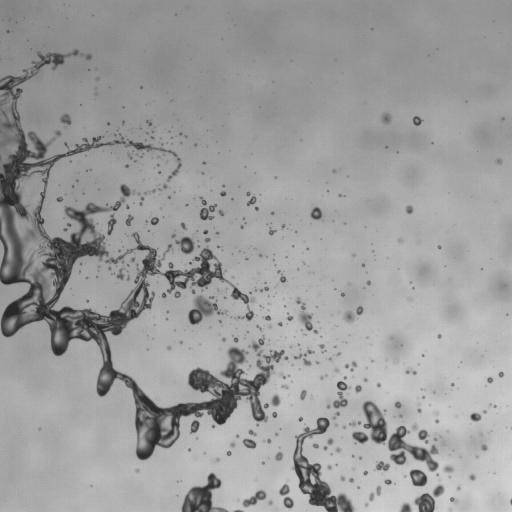droplet: (181, 473, 227, 511), (188, 295, 226, 324), (414, 483, 444, 511), (199, 196, 216, 220), (175, 236, 195, 254), (409, 469, 427, 486), (294, 349, 313, 365), (112, 267, 129, 279), (374, 461, 389, 472), (310, 207, 322, 219), (418, 429, 428, 443), (243, 438, 256, 448), (190, 419, 199, 433), (60, 114, 71, 124), (443, 464, 453, 475), (345, 361, 357, 370), (399, 502, 411, 511), (381, 113, 391, 123), (470, 412, 481, 421), (146, 217, 158, 225), (125, 215, 133, 226), (413, 116, 422, 125), (247, 196, 256, 205), (275, 452, 283, 460), (406, 205, 413, 213), (300, 390, 306, 399), (248, 429, 256, 435), (279, 373, 288, 378), (180, 222, 186, 229), (269, 228, 275, 235), (355, 385, 361, 392), (394, 401, 401, 407), (411, 423, 417, 430), (384, 479, 391, 485), (450, 497, 457, 503), (260, 286, 268, 291), (264, 315, 270, 321), (287, 314, 293, 320), (327, 438, 333, 444), (481, 444, 487, 450), (469, 474, 475, 480), (496, 159, 502, 164), (498, 371, 503, 377), (487, 377, 492, 383), (282, 384, 288, 389), (86, 54, 91, 59), (220, 191, 225, 196), (218, 210, 223, 215), (130, 257, 135, 262), (233, 337, 238, 342), (272, 412, 277, 417), (313, 443, 318, 448), (335, 447, 340, 452), (147, 120, 151, 125), (127, 153, 131, 158), (57, 197, 62, 201), (205, 238, 210, 242), (397, 238, 402, 242), (257, 325, 261, 330), (334, 368, 339, 372), (230, 442, 234, 447), (340, 476, 345, 480), (254, 206, 258, 210), (203, 230, 207, 234), (191, 289, 195, 293), (278, 322, 282, 326), (437, 334, 441, 338), (376, 383, 380, 387), (417, 408, 421, 412), (434, 411, 438, 415), (298, 417, 302, 421), (435, 419, 439, 423), (323, 446, 327, 450), (227, 451, 231, 455), (327, 465, 331, 469), (135, 468, 139, 472), (363, 471, 367, 475), (349, 478, 353, 482), (456, 486, 460, 490), (268, 500, 272, 504), (246, 192, 250, 195), (67, 223, 70, 227), (282, 224, 285, 228), (172, 234, 175, 238), (367, 280, 370, 284), (341, 292, 344, 296), (336, 352, 340, 355), (364, 378, 367, 382), (266, 439, 270, 442), (215, 458, 219, 461), (338, 194, 343, 196), (64, 143, 67, 146), (126, 205, 129, 208), (240, 225, 243, 228), (438, 245, 441, 248), (222, 338, 225, 341), (167, 346, 170, 349), (483, 410, 486, 413), (334, 423, 337, 426), (151, 136, 153, 139), (126, 164, 128, 167), (332, 170, 335, 172), (64, 228, 66, 231), (352, 254, 355, 256), (108, 267, 111, 269), (328, 358, 331, 360), (451, 383, 454, 385), (422, 396, 425, 398), (343, 426, 346, 428), (188, 448, 190, 451), (359, 456, 361, 459), (448, 509, 451, 511), (96, 77, 98, 79), (158, 171, 160, 173), (272, 212, 274, 214), (259, 254, 261, 256), (362, 264, 364, 266), (260, 305, 262, 307), (269, 325, 271, 327), (316, 361, 318, 363), (395, 361, 397, 363), (494, 405, 496, 407), (276, 433, 278, 435), (434, 438, 436, 440), (365, 503, 367, 505)
ligament: (0, 52, 287, 460), (349, 401, 439, 471), (291, 417, 355, 511), (326, 376, 350, 409), (295, 298, 317, 333), (278, 480, 294, 508), (242, 490, 266, 507), (343, 306, 363, 323), (369, 486, 381, 501), (278, 271, 286, 282), (405, 367, 416, 374), (333, 411, 339, 419), (319, 344, 324, 352), (147, 189, 155, 193), (320, 374, 326, 378), (234, 510, 242, 511), (510, 499, 511, 504)
